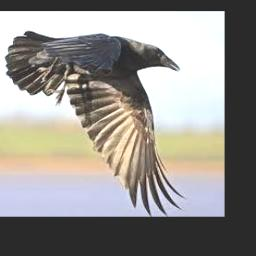Crow: (5, 31, 186, 216)
